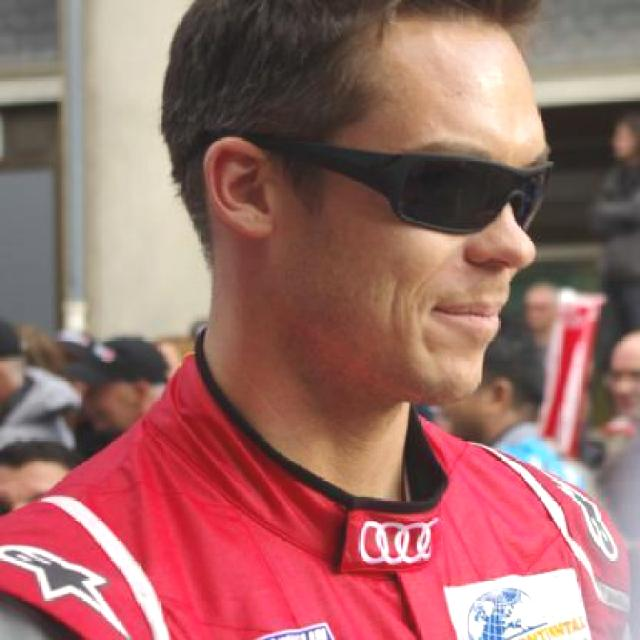face_nomask: (362, 121, 548, 368)
glasses: (212, 119, 540, 241)
head_nohelmet: (175, 0, 536, 66)
